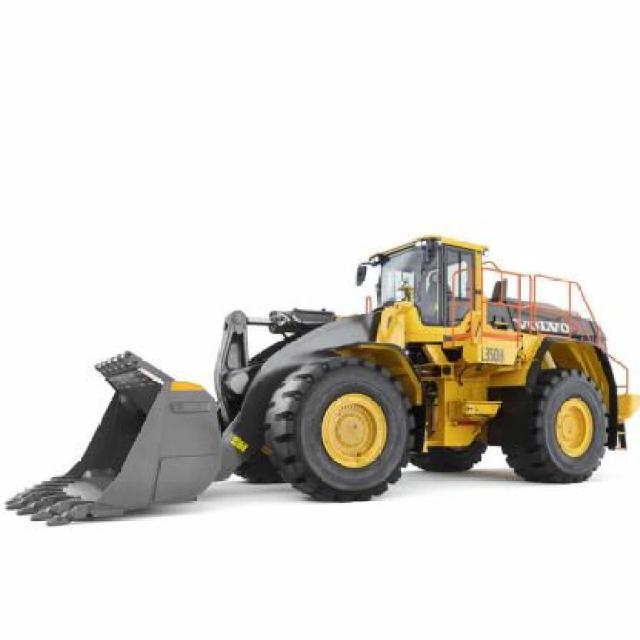buldozerpayloadergrader: (3, 227, 640, 522)
